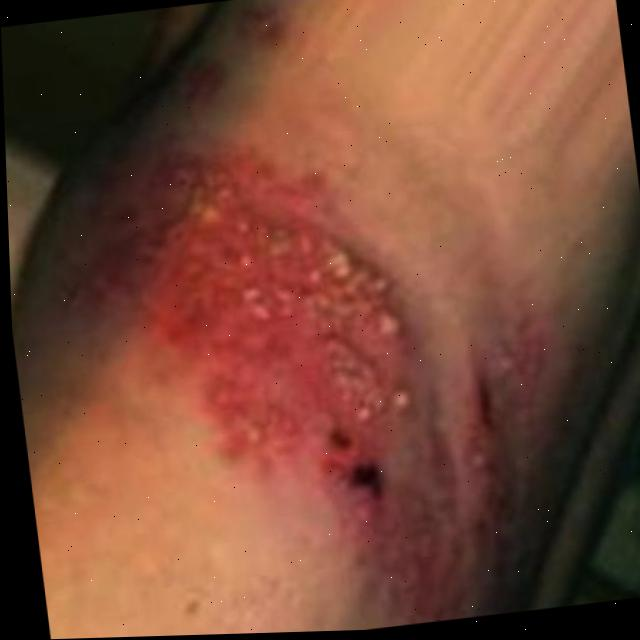Shingles: (101, 120, 431, 469)
